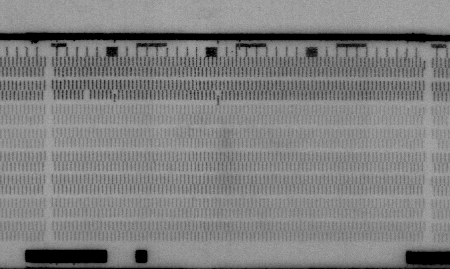Broken hole: (81, 89, 93, 101), (430, 140, 440, 151)
Oblique printing: (109, 90, 121, 104), (419, 56, 429, 71), (213, 91, 223, 105)
